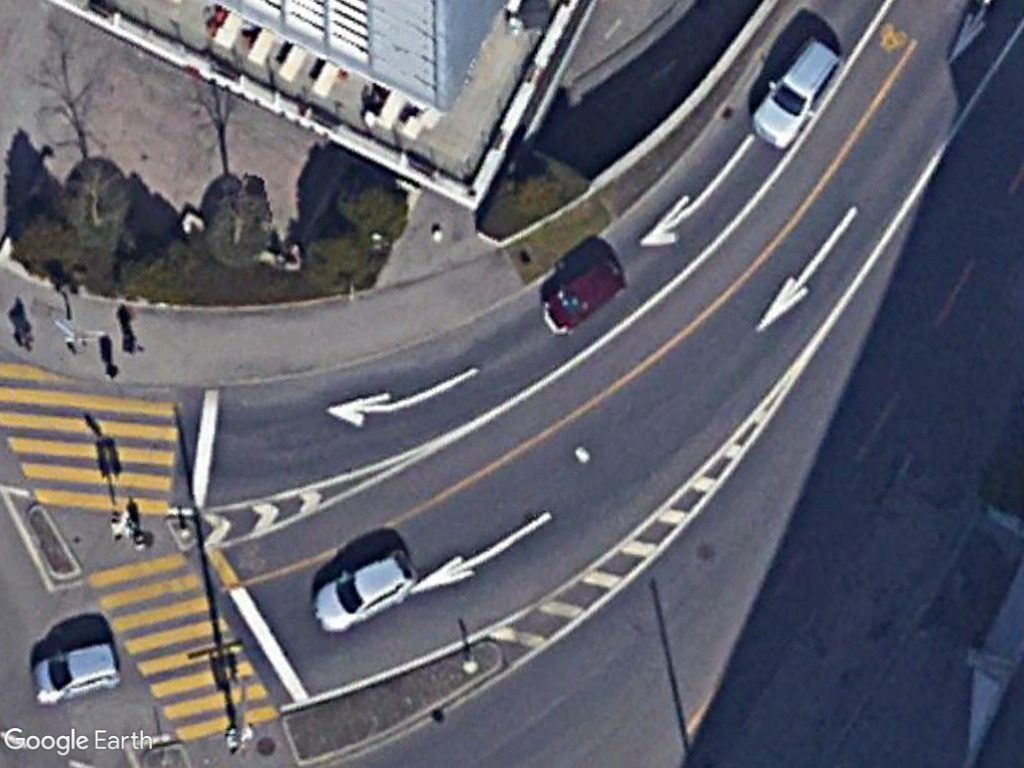car: (745, 35, 852, 154), (308, 547, 423, 638), (542, 250, 628, 329), (28, 638, 124, 707)
